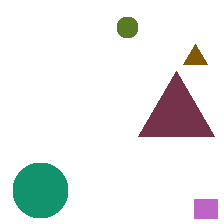circle: (13, 163, 67, 217), (117, 17, 137, 37)
rectangle: (194, 199, 217, 218)
triangle: (138, 71, 214, 136), (183, 44, 207, 64)
